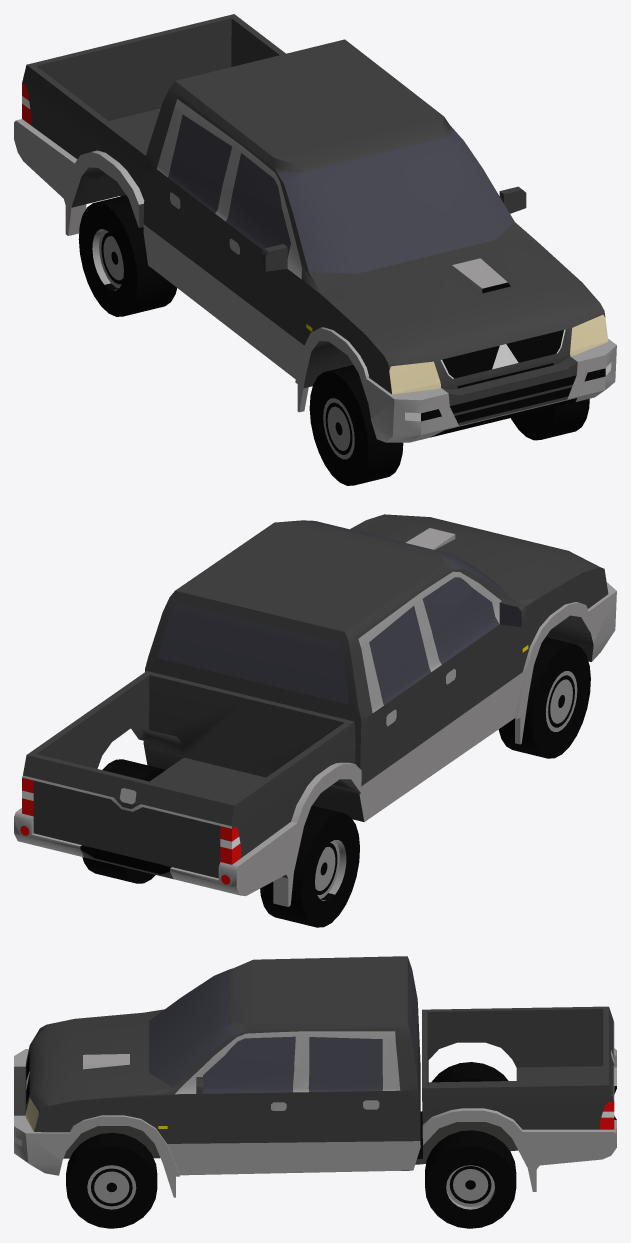
The model's file is mitsubishi-l200.glb.
3 renders of one model, top to bottom at view 1: azimuth 30°, elevation 25°; view 2: azimuth 150°, elevation 25°; view 3: azimuth 270°, elevation 25°, orthographic. The views are drawn at different scales.
Visible parts, largest first — view 1: body, RRW, FRW, FLW; view 2: body, RRW, FRW, RLW; view 3: body, RLW, FLW, RRW.
Part boxes in pixels (bbox=[...]): body: bbox=[14, 14, 616, 442]; RRW: bbox=[78, 195, 176, 316]; FRW: bbox=[309, 365, 403, 485]; FLW: bbox=[511, 398, 589, 440]; body: bbox=[14, 514, 616, 906]; RRW: bbox=[260, 805, 359, 927]; FRW: bbox=[498, 637, 590, 758]; RLW: bbox=[82, 759, 165, 883]; body: bbox=[14, 956, 616, 1197]; RLW: bbox=[425, 1130, 516, 1228]; FLW: bbox=[66, 1132, 157, 1228]; RRW: bbox=[431, 1062, 508, 1082].
Size of the model in its own units: 2.02 by 1.89 by 5.2.
